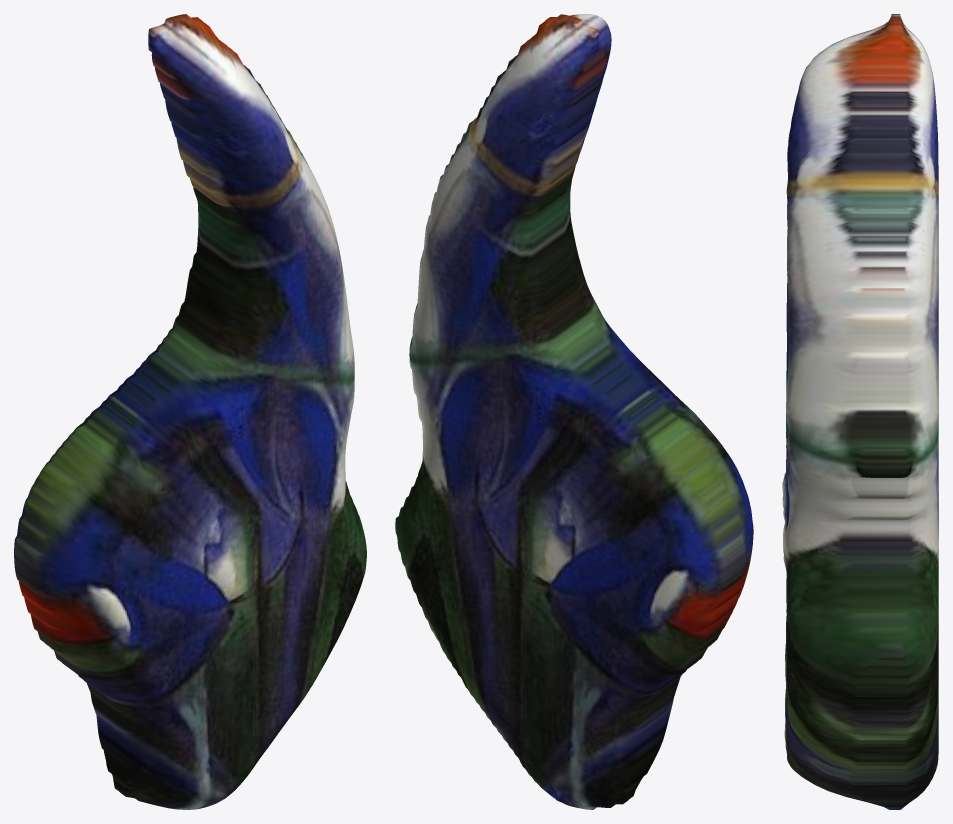
The model's file is marc-deer.glb.
3 renders of one model, left to right at view 1: azimuth 30°, elevation 25°; view 2: azimuth 150°, elevation 25°; view 3: azimuth 270°, elevation 25°, orthographic.
Visible parts, largest first — view 1: marc-deer; view 2: marc-deer; view 3: marc-deer.
Boxes of the visible parts, left/top/right/bottom form: marc-deer: left=14, top=14, right=366, bottom=809; marc-deer: left=395, top=14, right=753, bottom=809; marc-deer: left=782, top=14, right=938, bottom=809.
Size of the model in its own units: 0.8235 by 1.87 by 0.3367.
Materials: 1 (1 with a texture image).
